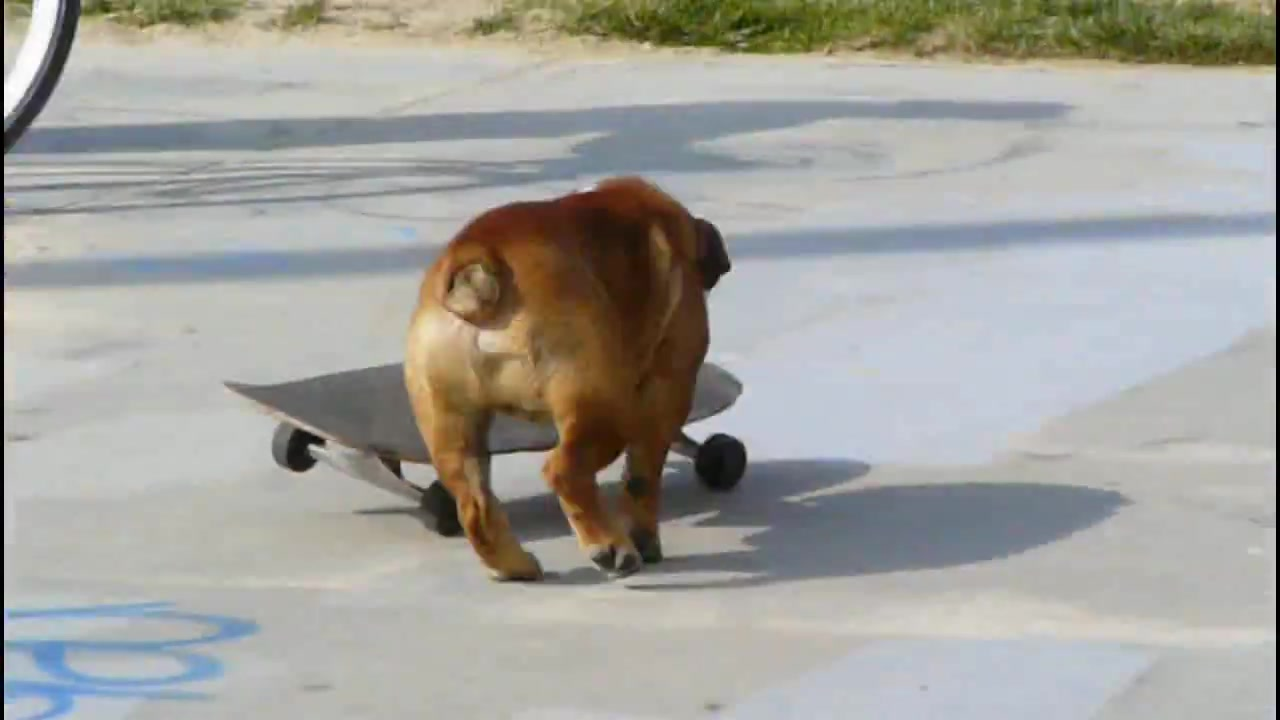dog: (402, 166, 739, 586)
